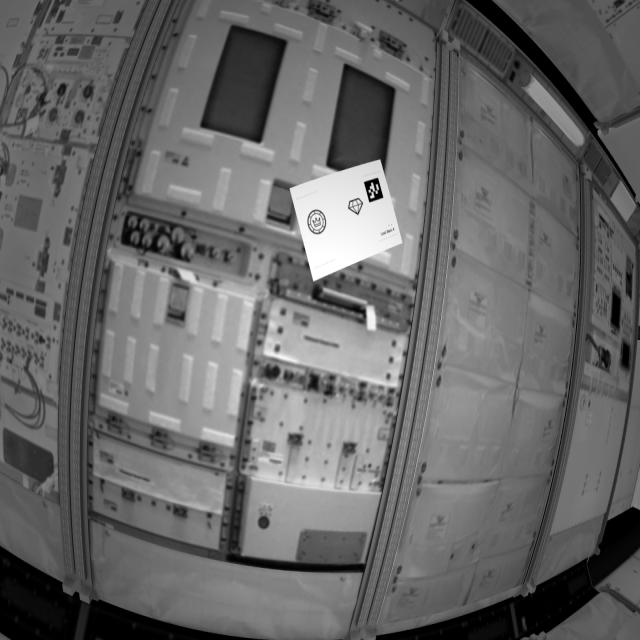coin: (306, 207, 330, 239)
diamond: (348, 196, 367, 217)
